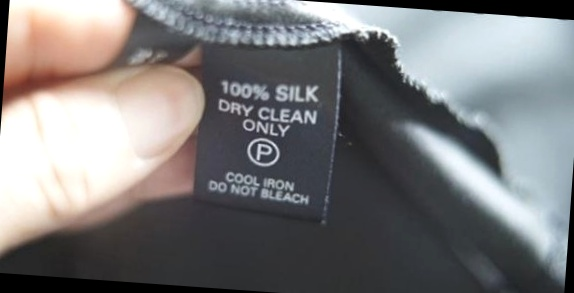dry_clean_any_solvent_except_trichloroethylene: (247, 135, 283, 168)
